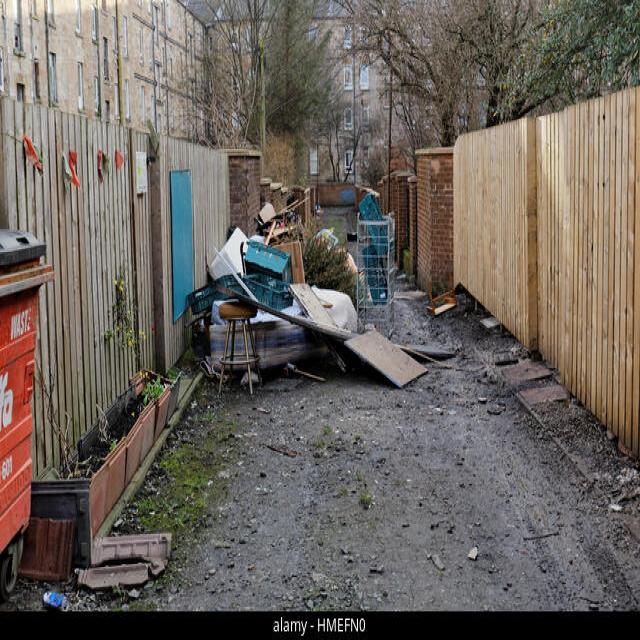metal: (232, 272, 426, 385), (352, 206, 410, 345)
